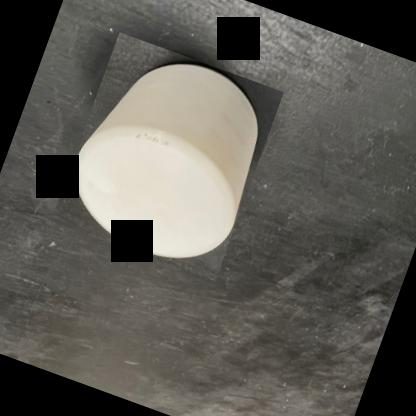white cylinder: (50, 32, 283, 281)
